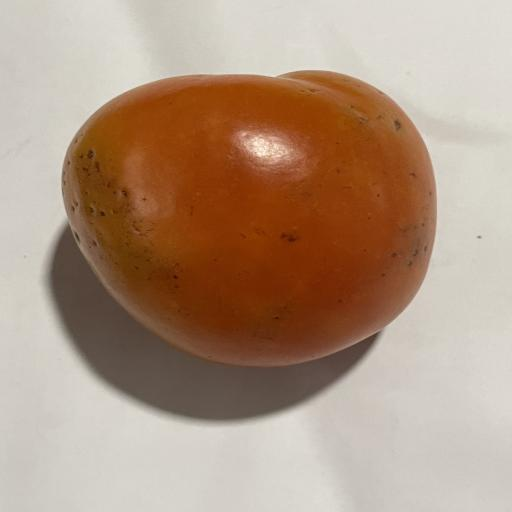ripe: (62, 71, 436, 366), (240, 234, 246, 238)
